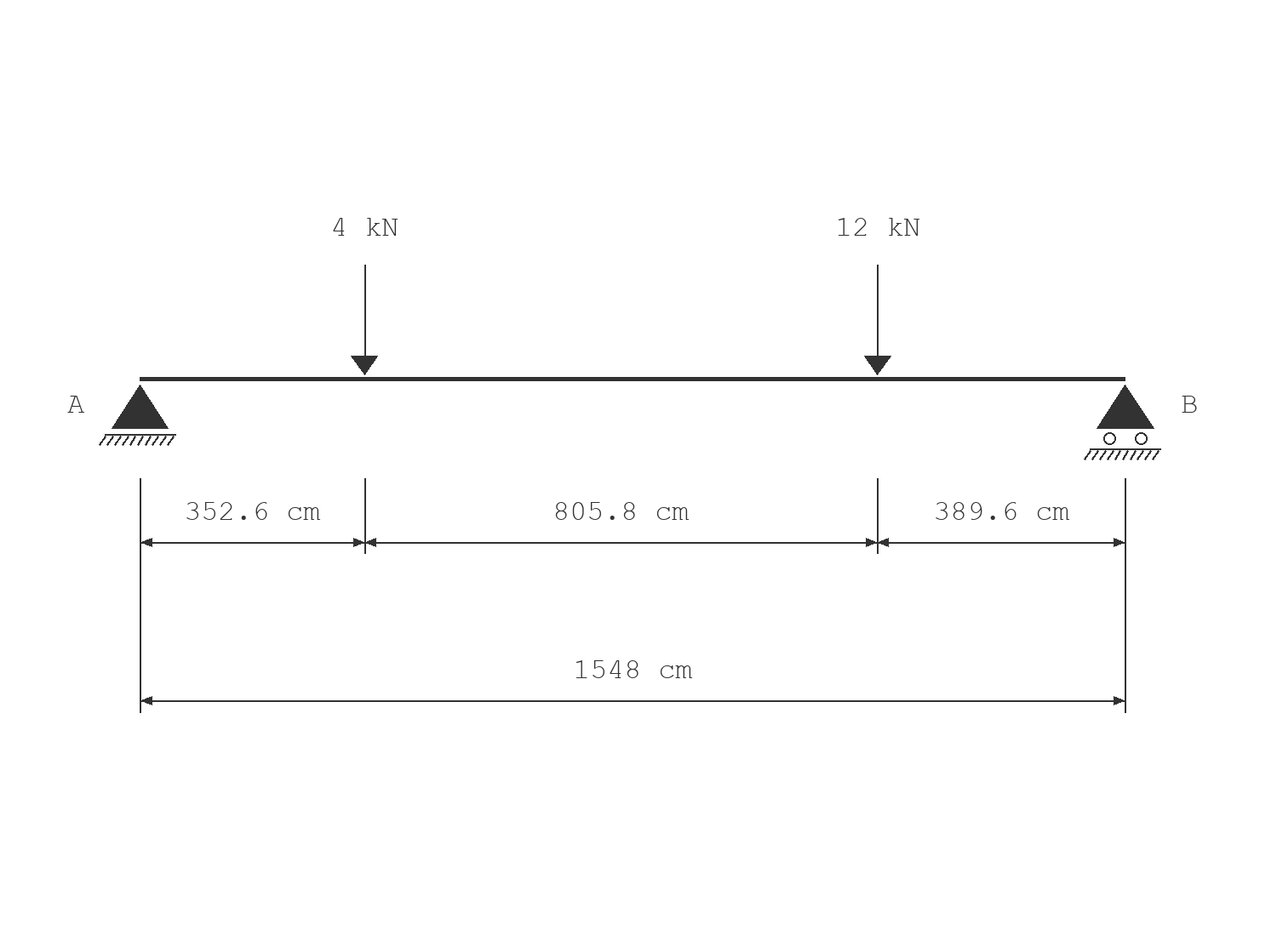pin_support: (99, 385, 176, 446)
point_load: (351, 265, 378, 375), (864, 265, 891, 375)
roller_support: (1084, 385, 1161, 460)
